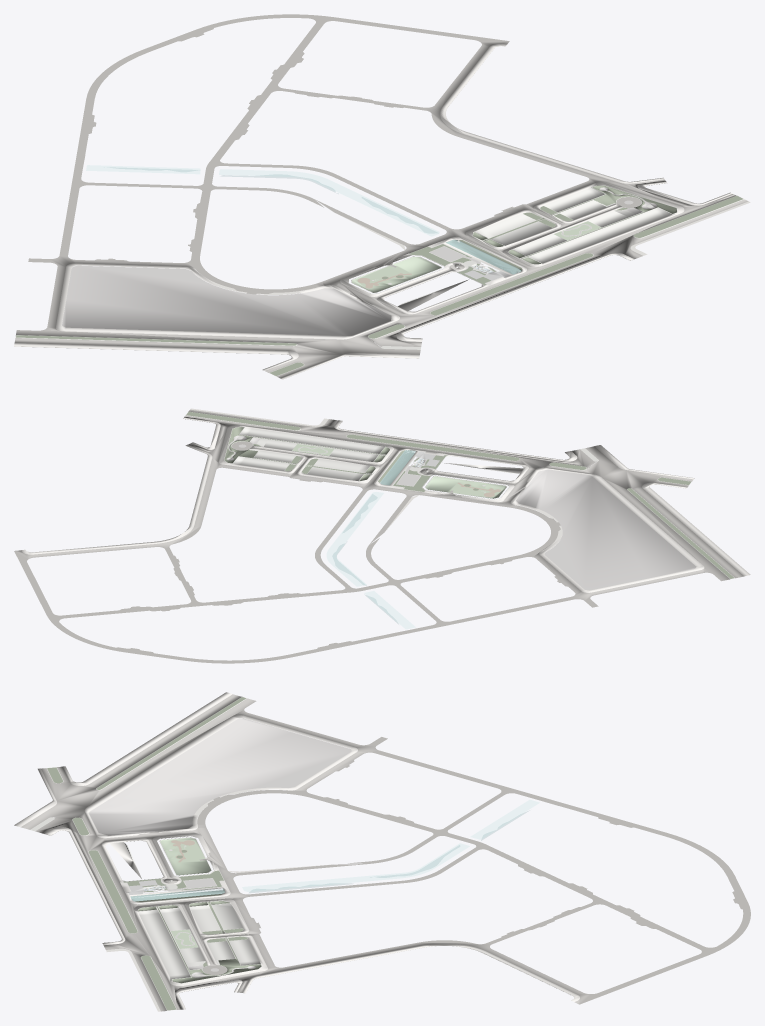
The picture shows the model from 3 angles, top to bottom: view 1: azimuth 30°, elevation 25°; view 2: azimuth 150°, elevation 25°; view 3: azimuth 270°, elevation 25°; orthographic projection. The views are drawn at different scales.
Parts seen in each view (by area): view 1: Node; view 2: Node; view 3: Node.
Boxes of the visible parts, box(x1,y1,x2,y2) form: Node: box(14, 14, 750, 379); Node: box(14, 408, 750, 663); Node: box(14, 692, 750, 1011).
Size of the model in its own units: 710609 by 2218 by 692866.
